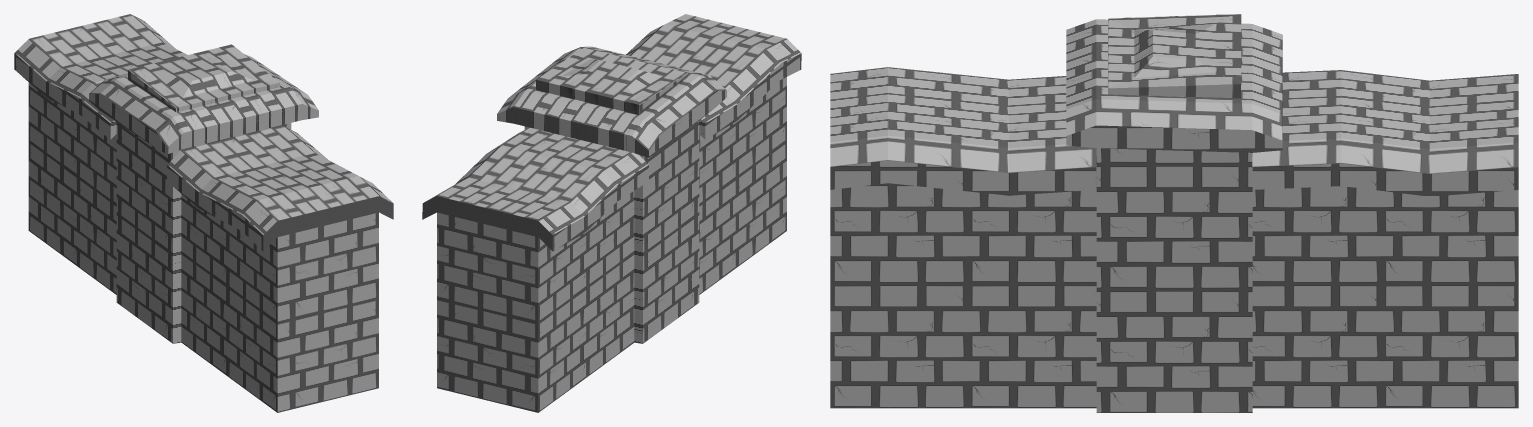
The model's file is CapMiddle_Wall.fbx.
3 renders of one model, left to right at view 1: azimuth 30°, elevation 25°; view 2: azimuth 150°, elevation 25°; view 3: azimuth 270°, elevation 25°, orthographic. The views are drawn at different scales.
Parts seen in each view (by area): view 1: WallCap; view 2: WallCap; view 3: WallCap.
Part boxes in pixels (bbox=[...]): WallCap: bbox=[14, 14, 393, 412]; WallCap: bbox=[422, 14, 801, 412]; WallCap: bbox=[830, 14, 1518, 412].
Size of the model in its own units: 0.4719 by 0.7098 by 1.34.
